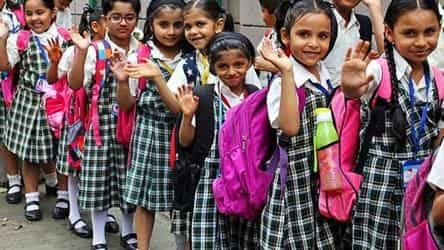student: (281, 5, 337, 65), (382, 3, 439, 61), (208, 34, 255, 86), (179, 2, 222, 44), (147, 1, 188, 45), (101, 1, 140, 38), (19, 1, 60, 32), (82, 9, 111, 38)
